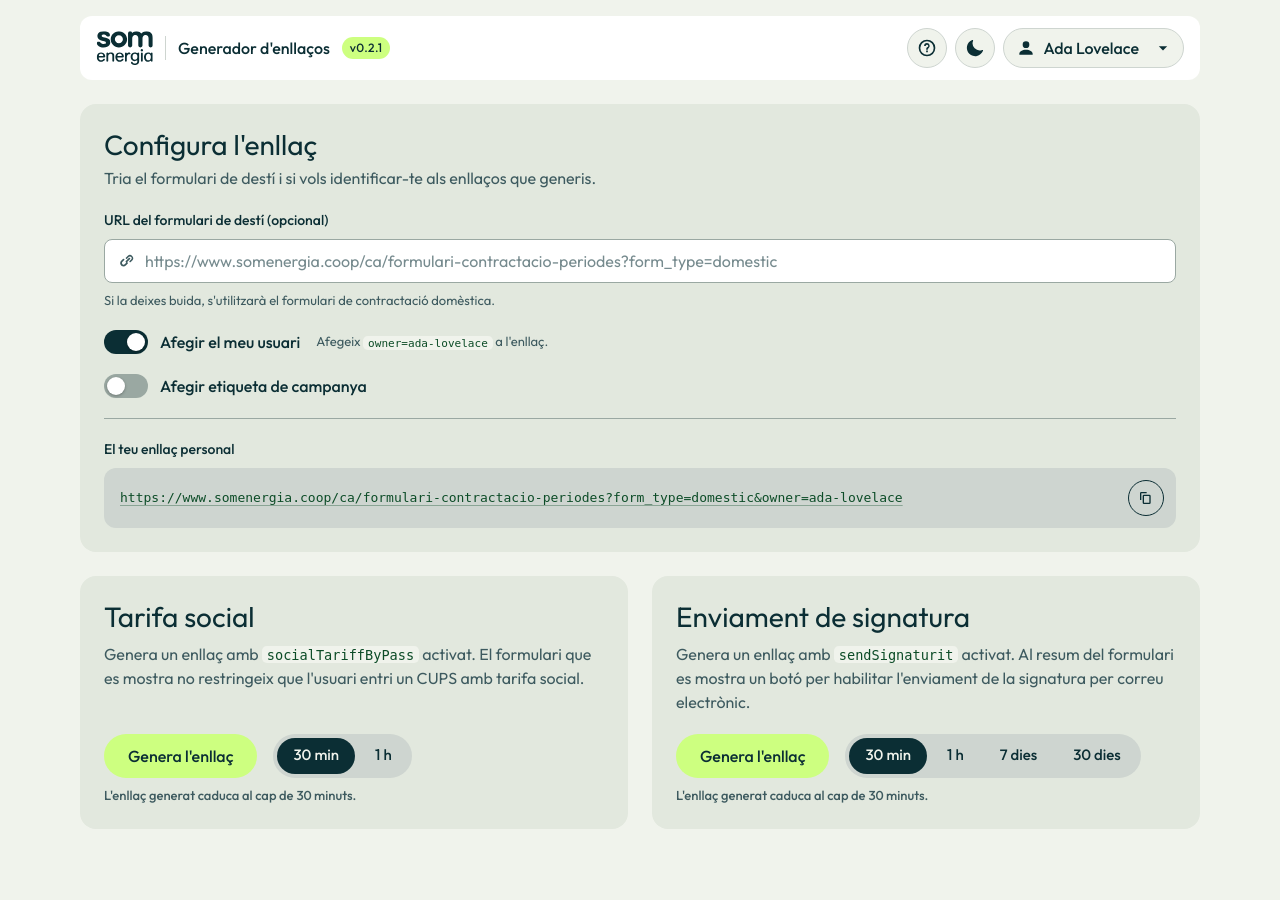
Scenario: AdminPage › reports a failed personal link copy
Click the button named "Copia l'enllaç personal".
click(1146, 498)  # box x1=1128 y1=480 x2=1164 y2=516
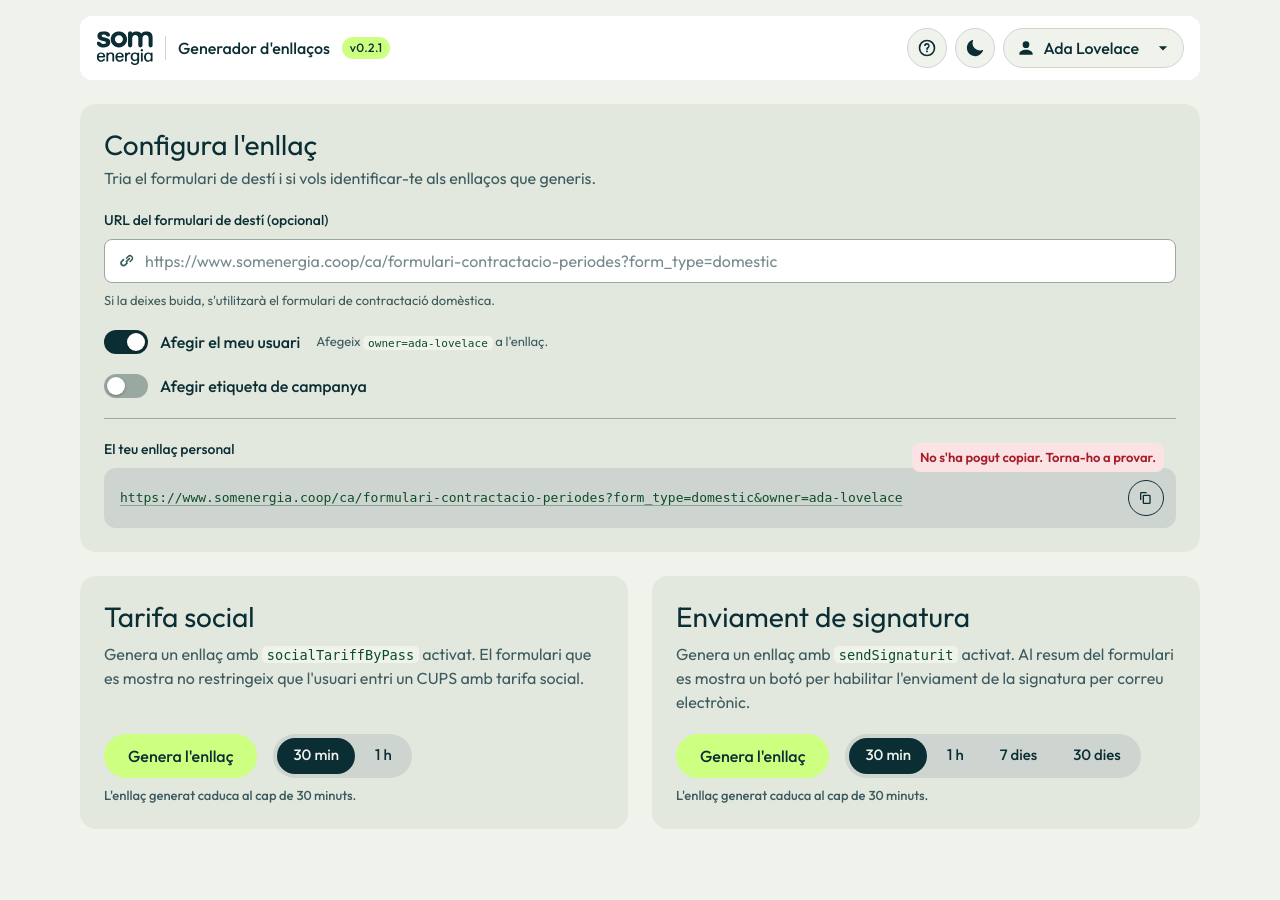
Result: the text "No s'ha pogut copiar. Torna-ho a provar." is shown at x1=912 y1=443 x2=1164 y2=472
